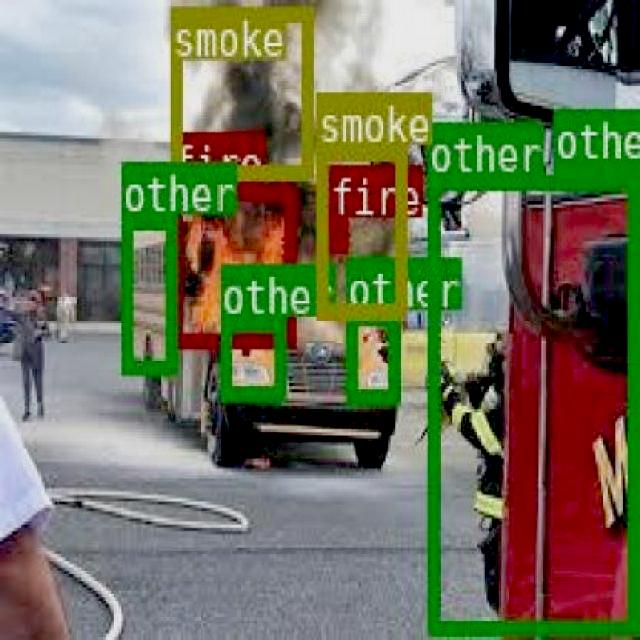fire: (169, 184, 294, 344), (328, 216, 344, 250)
smoke: (169, 3, 311, 176), (316, 144, 404, 314)
